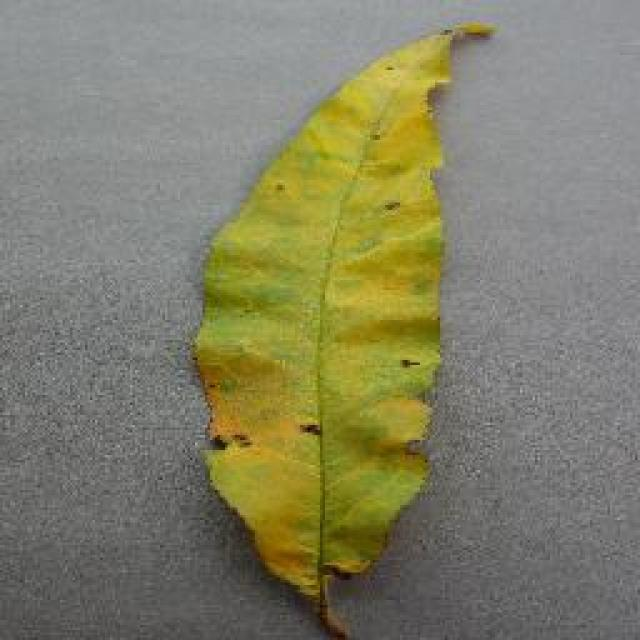Peach_Bacterial_Spot: (255, 210, 377, 572)
